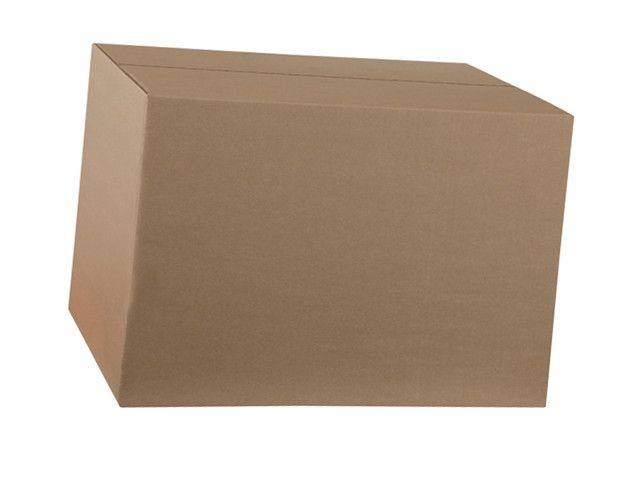cardboard: (67, 42, 573, 405)
